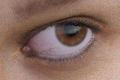eye: (56, 22, 87, 44)
